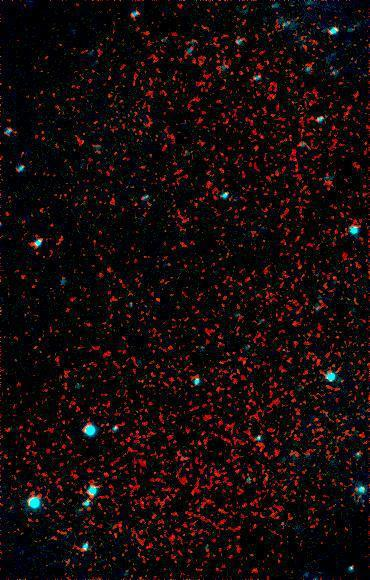star: (281, 307, 311, 337)
